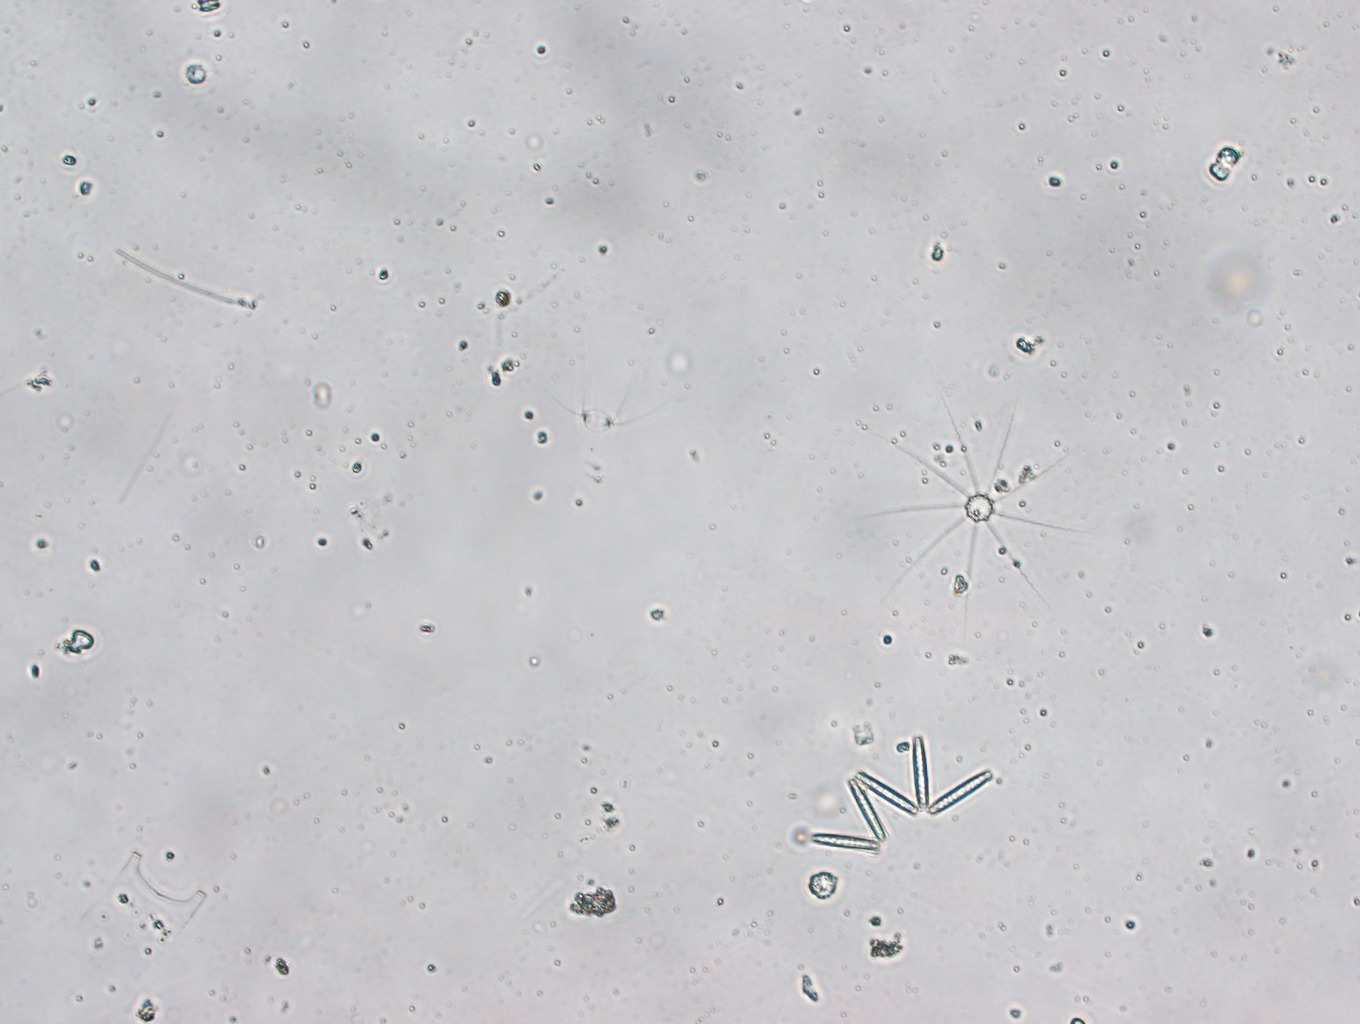bacteriastrum: (863, 401, 1090, 630)
thalassionema nitzschioides: (814, 728, 1001, 861)
